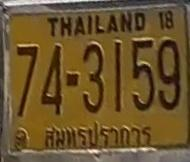1: (114, 42, 124, 111)
3: (82, 43, 104, 112)
4: (40, 45, 63, 117)
5: (131, 38, 154, 111)
7: (16, 46, 36, 116)
9: (157, 40, 180, 110)
SPK: (40, 119, 155, 152)
